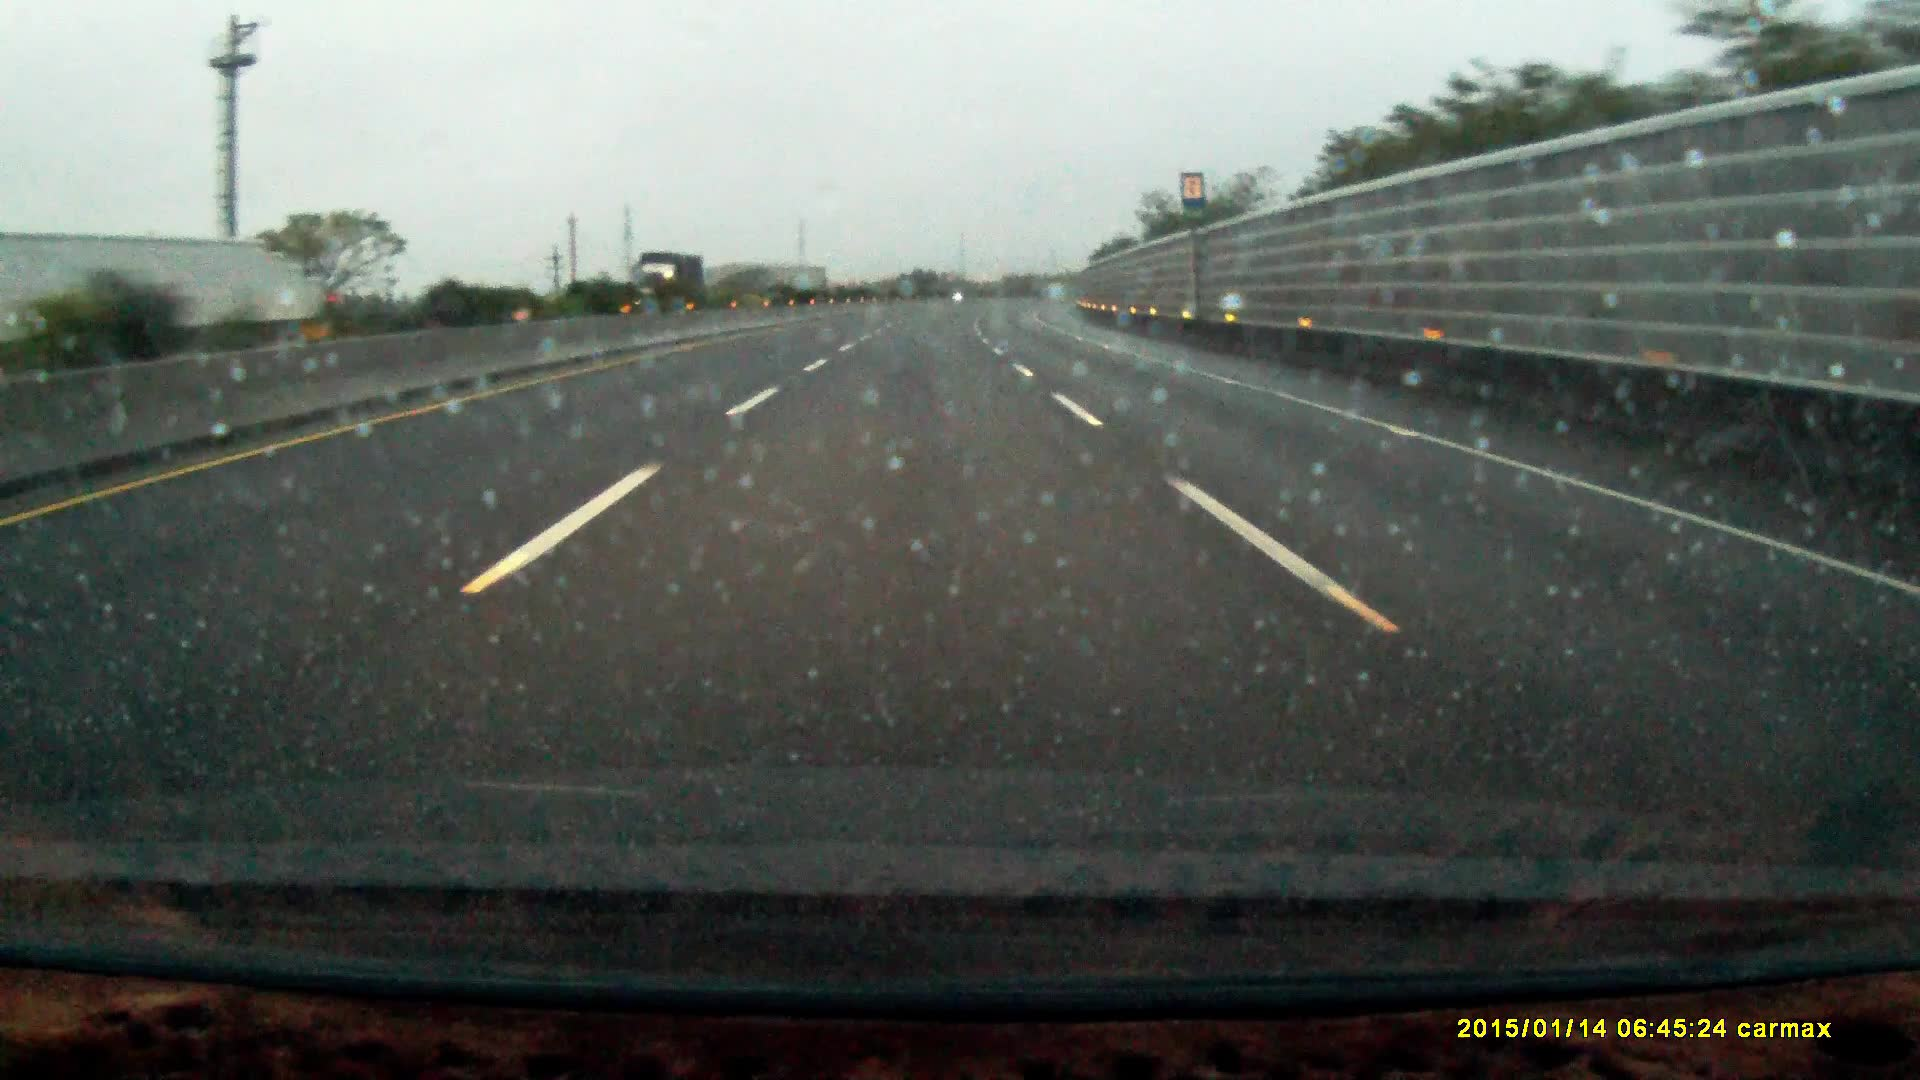vehicle: (636, 251, 709, 309)
